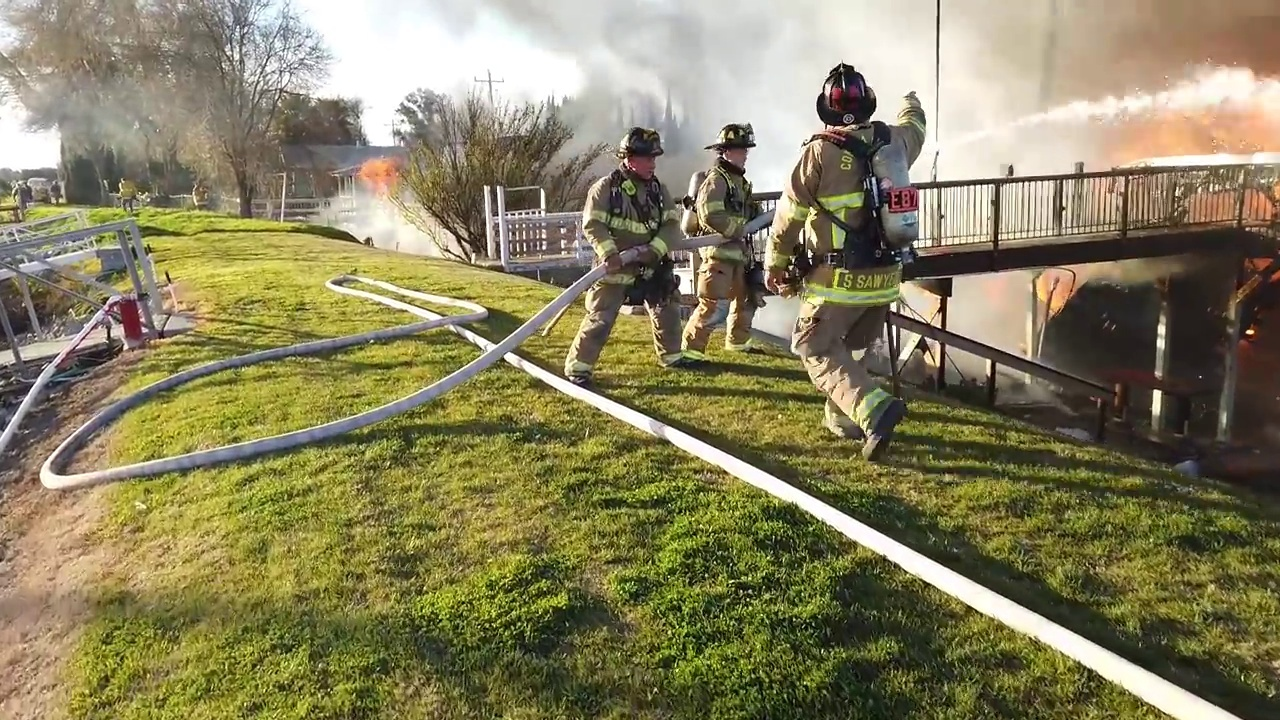fire: (349, 144, 407, 194), (1239, 323, 1260, 343)
smoke: (944, 1, 1279, 186), (1, 1, 232, 161), (945, 1, 1278, 81), (623, 3, 817, 124), (821, 2, 943, 80), (1035, 258, 1189, 311), (340, 197, 471, 259), (951, 277, 1030, 352), (754, 292, 798, 341)
